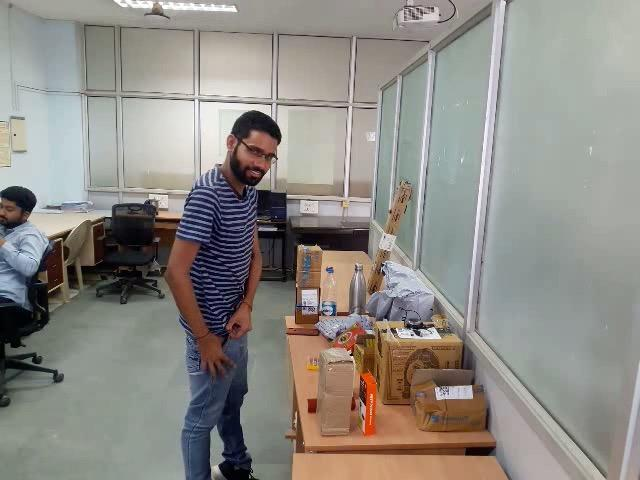shoplifting: (151, 311, 286, 409)
